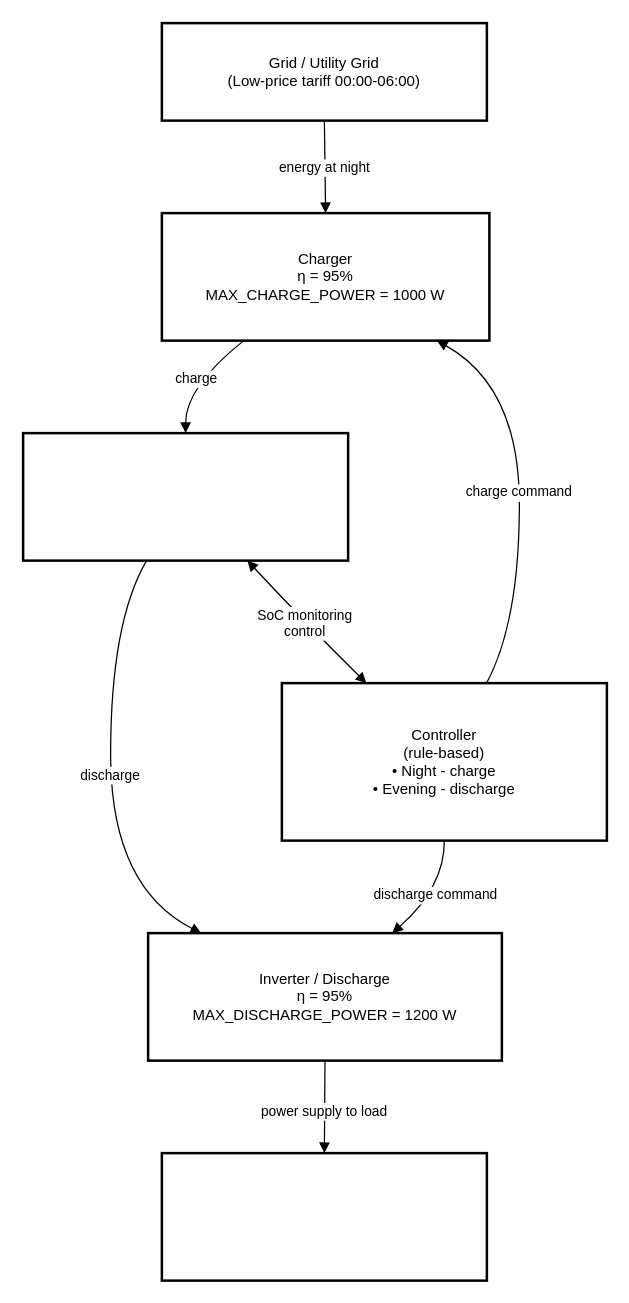
This 629x1303 diagram has some shape labels left out. Here are the shapes that lost their labels. From the top down, the box of each, then its label:
(21, 431, 349, 561): Battery • Capacity 4 kWh • SoC 20-90% • SoH (degradation)
(160, 1151, 488, 1281): Household Load • Base 300 W • Peak 600 W (18:00-22:00)
